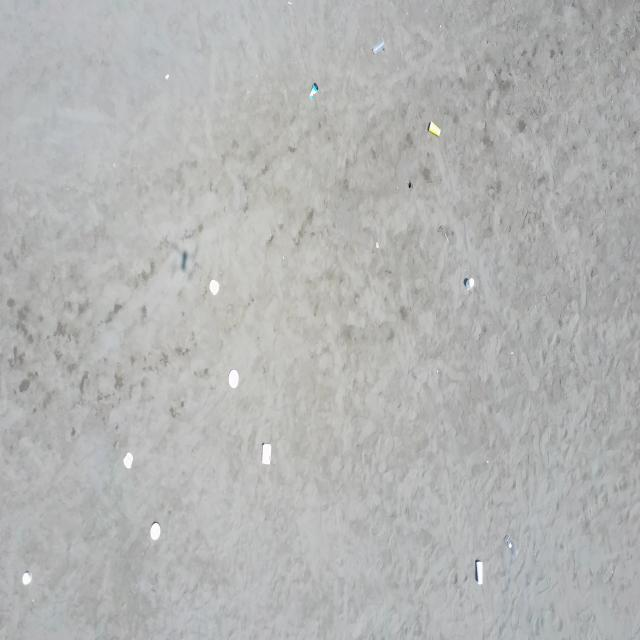take-away-containers: (228, 369, 240, 389), (260, 444, 272, 464), (123, 451, 134, 469), (150, 523, 161, 540), (209, 280, 221, 295), (24, 571, 34, 584)
takeaway-cup: (372, 37, 385, 55), (428, 120, 441, 138), (505, 536, 517, 554), (476, 560, 484, 586), (309, 82, 319, 100), (466, 276, 474, 292)
